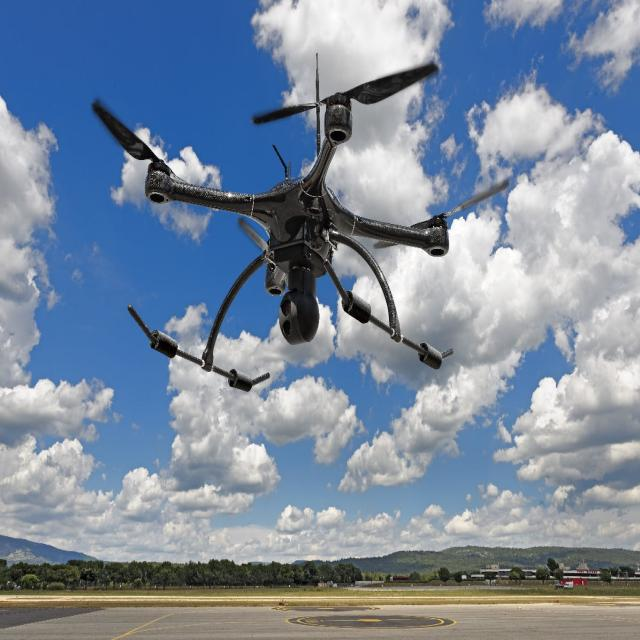drone: (90, 46, 513, 395)
